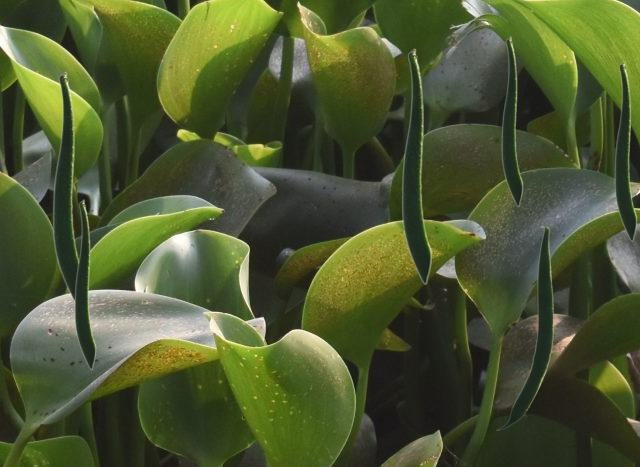french_bean: (496, 226, 552, 429), (401, 48, 431, 284), (52, 71, 78, 301), (614, 61, 636, 241), (501, 36, 522, 206), (74, 199, 95, 369)
